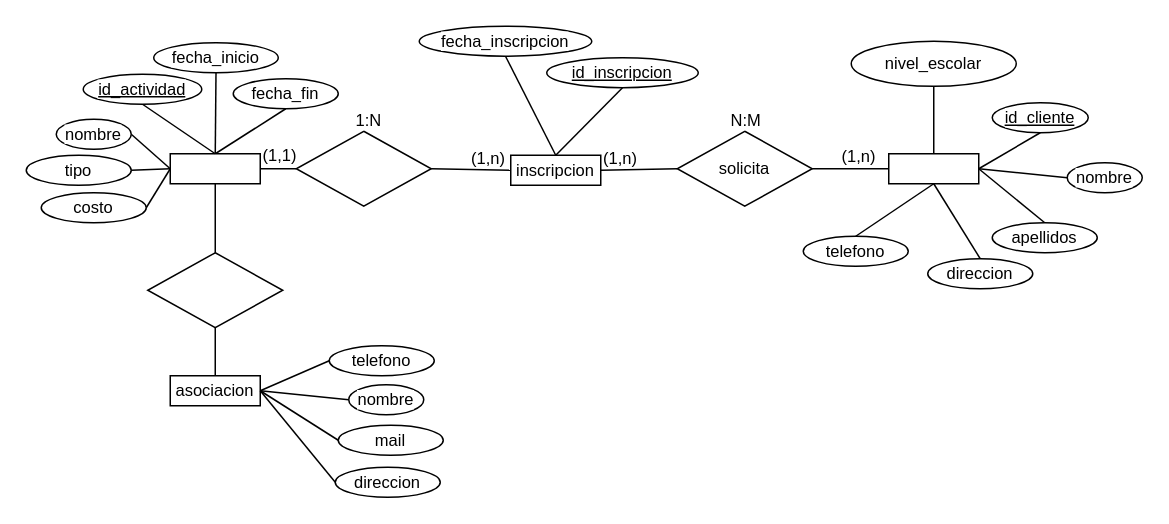
Some shapes in this 1169 by 524 pixel diagram are drawn without their labels. The shapes that lost their labels are listed below. From the top down, each one's centre as x and y in pixels, then its label:
point 214,168: actividad
point 363,168: para
point 933,168: clientes
point 214,289: de una
